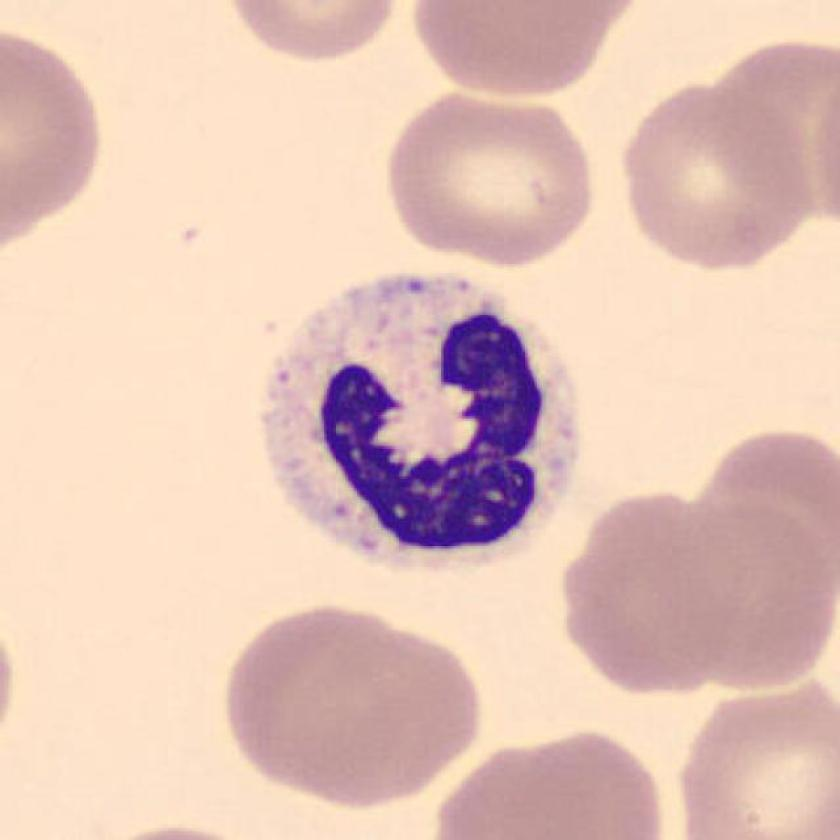neutrophil: (265, 271, 581, 563)
